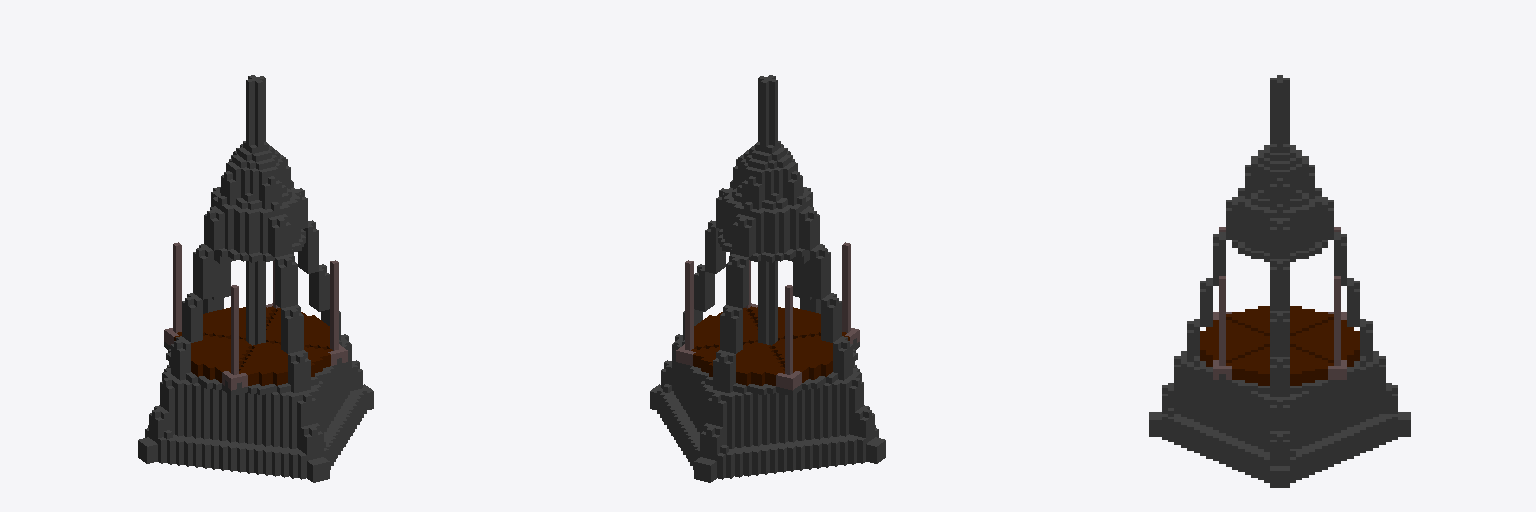
The picture shows the model from 3 angles: view 1: azimuth 30°, elevation 25°; view 2: azimuth 150°, elevation 25°; view 3: azimuth 270°, elevation 25°; orthographic projection.
Bounding box in the file's own units: 41 × 61 × 41.
1 materials, 1 textured.